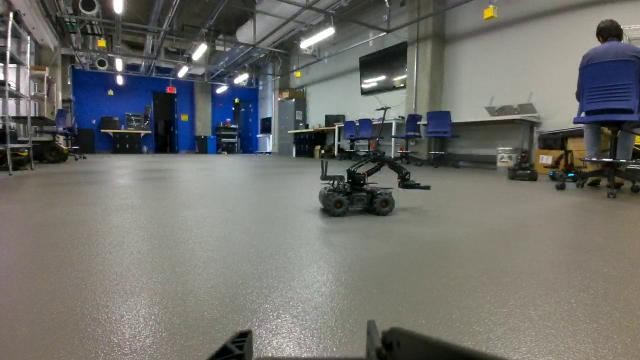robot: (317, 146, 435, 221)
